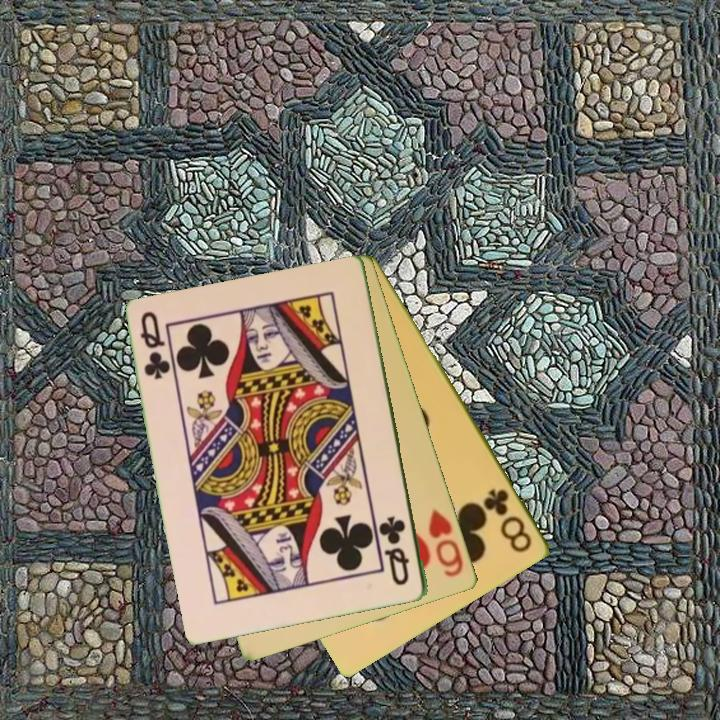6h: (425, 506, 467, 580)
8c: (480, 485, 536, 556)
Qc: (376, 513, 413, 589), (137, 308, 172, 383)
